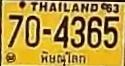0: (24, 15, 40, 46)
3: (70, 15, 85, 47)
4: (53, 15, 68, 47)
5: (103, 15, 118, 47)
6: (87, 15, 101, 47)
7: (8, 14, 22, 47)
PLK: (40, 50, 89, 66)
